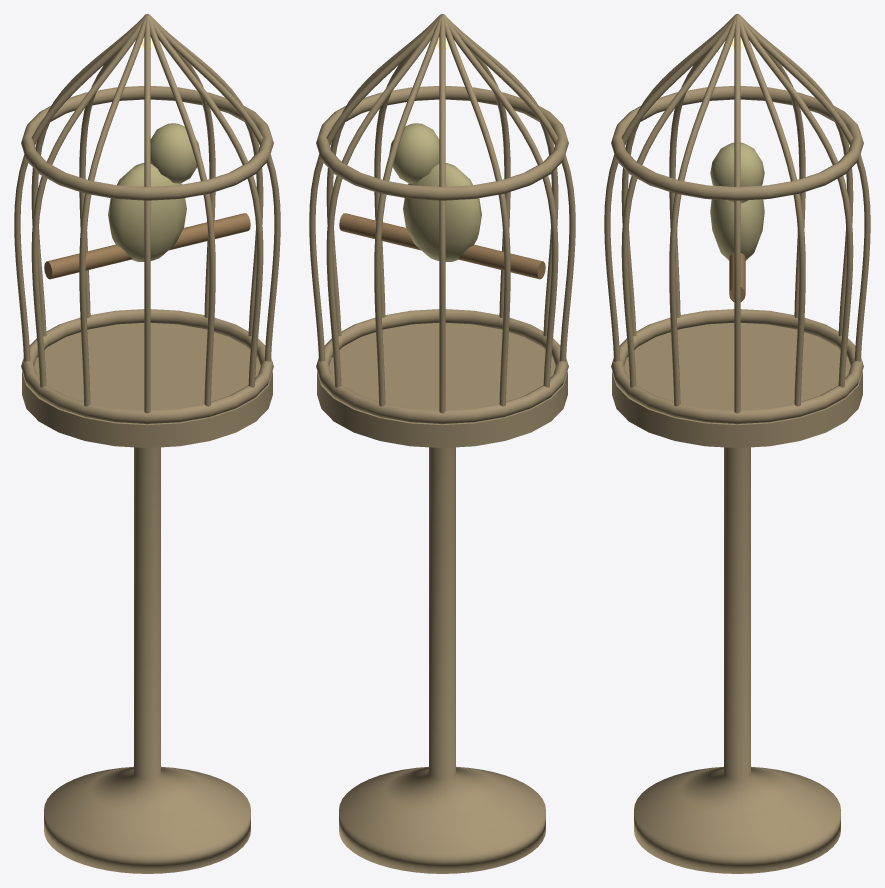
Rendered from birdcage.glb.
3 views of the same model, side by side, from view 1: azimuth 30°, elevation 25°; view 2: azimuth 150°, elevation 25°; view 3: azimuth 270°, elevation 25° (orthographic).
Parts seen in each view (by area): view 1: weighted-stand, cage-floor, cage-hoop-0-81, cage-hoop-1-2, little-bird-body, supported-perch, dome-bar-3, dome-bar-2, dome-bar-5, dome-bar-6, dome-bar-4, dome-bar-1 (+6 smaller); view 2: weighted-stand, cage-floor, cage-hoop-0-81, cage-hoop-1-2, little-bird-body, supported-perch, dome-bar-9, dome-bar-10, dome-bar-7, dome-bar-6, dome-bar-8, dome-bar-11 (+6 smaller); view 3: weighted-stand, cage-floor, cage-hoop-0-81, cage-hoop-1-2, dome-bar-1, dome-bar-11, dome-bar-2, dome-bar-10, dome-bar-0, dome-bar-3, dome-bar-9, little-bird-body (+6 smaller).
Boxes of the visible parts, bbox=[...] form: weighted-stand: bbox=[44, 447, 250, 873]; cage-floor: bbox=[22, 323, 272, 447]; cage-hoop-0-81: bbox=[21, 309, 273, 423]; cage-hoop-1-2: bbox=[21, 86, 273, 200]; little-bird-body: bbox=[108, 163, 186, 261]; supported-perch: bbox=[44, 213, 250, 279]; dome-bar-3: bbox=[147, 16, 215, 417]; dome-bar-2: bbox=[149, 15, 263, 387]; dome-bar-5: bbox=[79, 15, 147, 417]; dome-bar-6: bbox=[31, 16, 145, 387]; dome-bar-4: bbox=[144, 16, 150, 424]; dome-bar-1: bbox=[149, 15, 280, 361]; weighted-stand: bbox=[339, 447, 545, 873]; cage-floor: bbox=[317, 323, 567, 447]; cage-hoop-0-81: bbox=[316, 309, 568, 423]; cage-hoop-1-2: bbox=[316, 86, 568, 200]; little-bird-body: bbox=[403, 163, 481, 261]; supported-perch: bbox=[339, 213, 545, 279]; dome-bar-9: bbox=[374, 16, 442, 417]; dome-bar-10: bbox=[326, 15, 440, 387]; dome-bar-7: bbox=[442, 15, 510, 417]; dome-bar-6: bbox=[444, 16, 558, 387]; dome-bar-8: bbox=[439, 16, 445, 424]; dome-bar-11: bbox=[309, 15, 440, 361]; weighted-stand: bbox=[634, 447, 840, 873]; cage-floor: bbox=[612, 323, 862, 447]; cage-hoop-0-81: bbox=[611, 309, 863, 423]; cage-hoop-1-2: bbox=[611, 86, 863, 200]; dome-bar-1: bbox=[669, 15, 737, 417]; dome-bar-11: bbox=[737, 15, 805, 417]; dome-bar-2: bbox=[621, 16, 736, 387]; dome-bar-10: bbox=[738, 16, 853, 387]; dome-bar-0: bbox=[734, 16, 740, 424]; dome-bar-3: bbox=[604, 15, 735, 361]; dome-bar-9: bbox=[739, 15, 870, 361]; little-bird-body: bbox=[710, 199, 764, 260].
Bounding box in the file's own units: 0.4887 × 1.65 × 0.4887.
